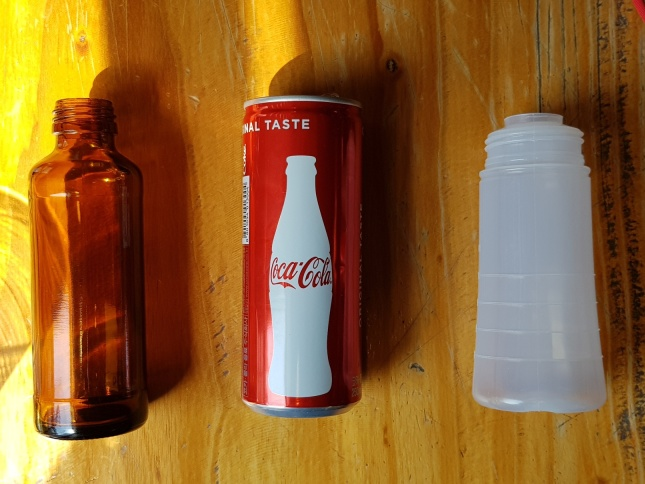Can: (230, 87, 367, 420)
Glass: (24, 92, 154, 440)
Plastic: (464, 106, 613, 418)
